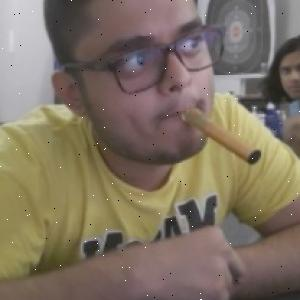Golden-E-Ciggirate: (182, 106, 263, 168)
